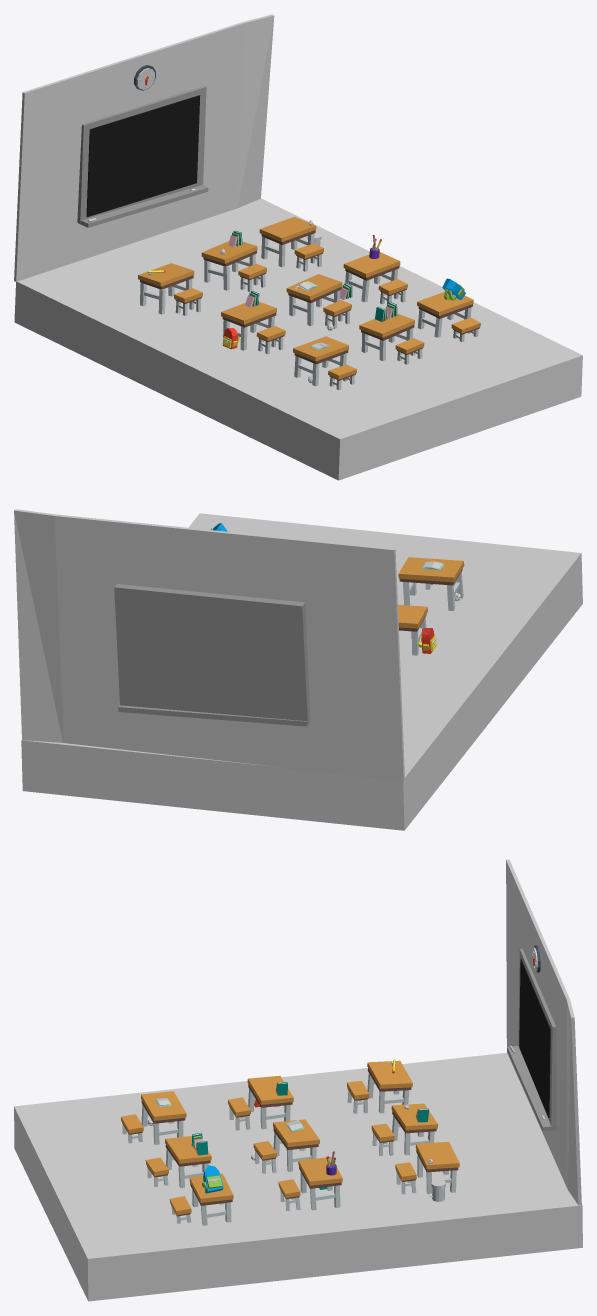
File: Classroom.glb
3 renders of one model, top to bottom at view 1: azimuth 30°, elevation 25°; view 2: azimuth 150°, elevation 25°; view 3: azimuth 270°, elevation 25°, orthographic. The views are drawn at different scales.
Parts seen in each view (by area): view 1: group348240703, group121237137, group712816112, group1802101336, group950593366, group1090281094, group1218154375, group1499587018, group1104049870, group948712025, group1310230328, group985851638 (+2 smaller); view 2: group121237137, group348240703, group1802101336, group950593366, group1499587018, group948712025; view 3: group348240703, group121237137, group712816112, group1802101336, group950593366, group1104049870, group1090281094, group1499587018, group948712025, group1218154375, group985851638, group371302894 (+2 smaller).
Part boxes in pixels (x1=…): group348240703: x1=14, y1=198, x2=582, y2=480; group121237137: x1=14, y1=14, x2=274, y2=281; group712816112: x1=86, y1=95, x2=200, y2=217; group1802101336: x1=77, y1=86, x2=206, y2=223; group950593366: x1=77, y1=185, x2=208, y2=227; group1090281094: x1=259, y1=216, x2=316, y2=241; group1218154375: x1=343, y1=252, x2=400, y2=277; group1499587018: x1=293, y1=336, x2=348, y2=361; group1104049870: x1=138, y1=263, x2=194, y2=286; group948712025: x1=221, y1=301, x2=276, y2=324; group1310230328: x1=359, y1=313, x2=414, y2=337; group985851638: x1=286, y1=274, x2=342, y2=300; group121237137: x1=14, y1=509, x2=404, y2=781; group348240703: x1=21, y1=513, x2=582, y2=830; group1802101336: x1=114, y1=584, x2=310, y2=724; group950593366: x1=118, y1=705, x2=309, y2=726; group1499587018: x1=398, y1=557, x2=464, y2=582; group948712025: x1=398, y1=604, x2=427, y2=628; group348240703: x1=14, y1=1053, x2=582, y2=1301; group121237137: x1=506, y1=859, x2=581, y2=1205; group712816112: x1=519, y1=959, x2=550, y2=1117; group1802101336: x1=518, y1=949, x2=556, y2=1126; group950593366: x1=507, y1=1046, x2=556, y2=1131; group1104049870: x1=367, y1=1060, x2=412, y2=1088; group1090281094: x1=415, y1=1141, x2=459, y2=1169; group1499587018: x1=141, y1=1091, x2=186, y2=1120; group948712025: x1=247, y1=1075, x2=293, y2=1104; group1218154375: x1=298, y1=1157, x2=342, y2=1185; group985851638: x1=273, y1=1119, x2=319, y2=1146; group371302894: x1=391, y1=1103, x2=438, y2=1130.
Bounding box in the file's own units: 3.82 × 2.43 × 4.86.
